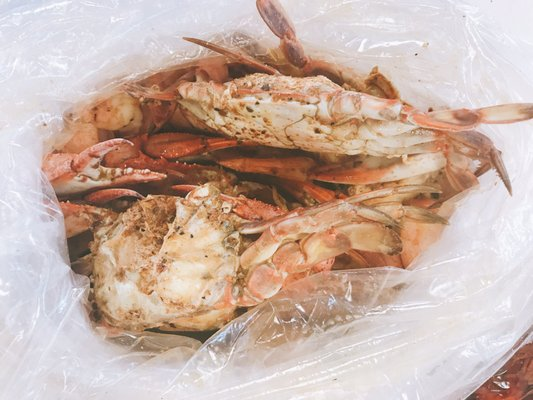soup: (46, 5, 530, 347)
